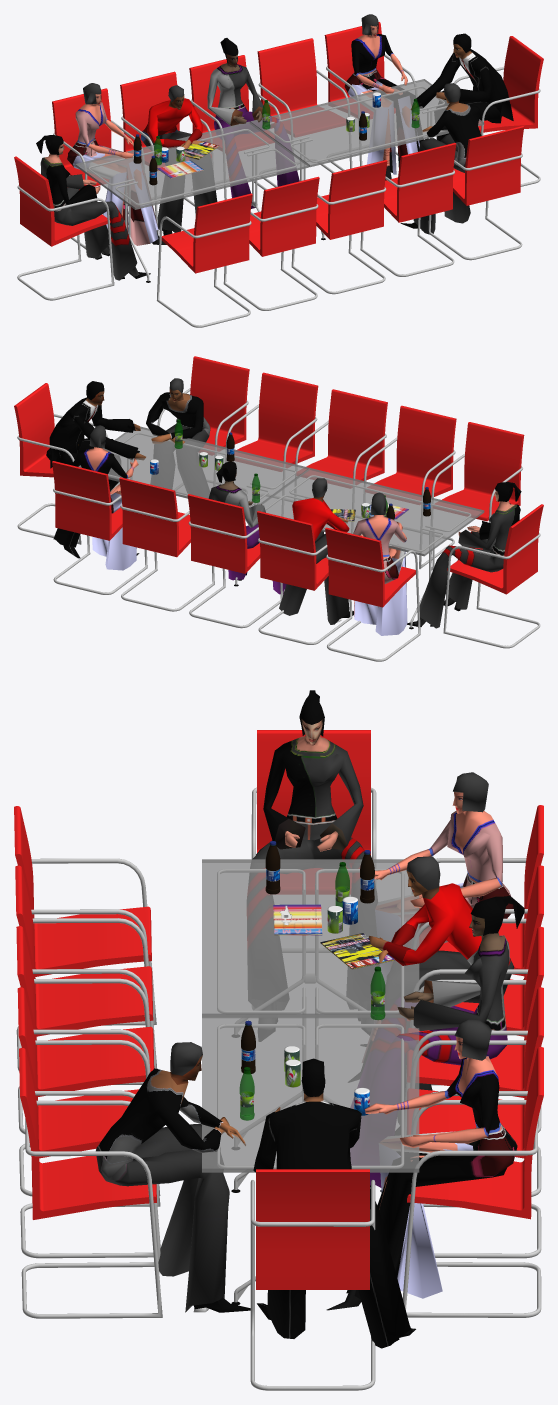
File: table.fbx
3 renders of one model, top to bottom at view 1: azimuth 30°, elevation 25°; view 2: azimuth 150°, elevation 25°; view 3: azimuth 270°, elevation 25°, orthographic. The views are drawn at different scales.
Visible parts, largest first — view 1: Box1335, Box1340, model23, model22, model19, model26, Line1070, model25, Line1077, Line1074, Line1076, Line1075 (+24 smaller); view 2: Box1340, Box1335, model22, Line1076, Line1074, Line1075, Line1077, model21, Line1068, model20, Line1070, Line1069 (+22 smaller); view 3: Box1335, Box1340, model21, model22, model23, Line1078, model26, model20, model25, model19, Line1075, Line1077 (+24 smaller).
Boxes of the visible parts, x1=… form: Box1335: x1=75, y1=121, x2=309, y2=209; Box1340: x1=250, y1=79, x2=484, y2=167; model23: x1=344, y1=14, x2=423, y2=180; model22: x1=36, y1=135, x2=150, y2=280; model19: x1=67, y1=83, x2=166, y2=245; model26: x1=207, y1=38, x2=299, y2=208; Line1070: x1=257, y1=38, x2=345, y2=136; model25: x1=140, y1=85, x2=217, y2=235; Line1077: x1=161, y1=193, x2=252, y2=273; Line1074: x1=384, y1=143, x2=456, y2=222; Line1076: x1=316, y1=160, x2=387, y2=239; Line1075: x1=249, y1=176, x2=319, y2=256; Box1340: x1=78, y1=426, x2=309, y2=507; Box1335: x1=260, y1=468, x2=484, y2=556; model22: x1=407, y1=482, x2=521, y2=628; Line1076: x1=297, y1=389, x2=387, y2=488; Line1074: x1=235, y1=372, x2=318, y2=471; Line1075: x1=365, y1=405, x2=456, y2=504; Line1077: x1=433, y1=422, x2=524, y2=521; model21: x1=146, y1=378, x2=210, y2=497; Line1068: x1=325, y1=527, x2=415, y2=607; model20: x1=46, y1=381, x2=145, y2=558; Line1070: x1=119, y1=477, x2=190, y2=557; Line1069: x1=257, y1=511, x2=328, y2=590; Box1335: x1=202, y1=859, x2=419, y2=1014; Box1340: x1=202, y1=1014, x2=419, y2=1172; model21: x1=96, y1=1042, x2=250, y2=1312; model22: x1=247, y1=690, x2=379, y2=1041; model23: x1=326, y1=1019, x2=517, y2=1310; Line1078: x1=256, y1=1169, x2=369, y2=1289; model26: x1=350, y1=896, x2=524, y2=1187; model20: x1=253, y1=1058, x2=415, y2=1348; model25: x1=368, y1=856, x2=514, y2=1134; model19: x1=348, y1=772, x2=513, y2=1082; Line1075: x1=15, y1=865, x2=153, y2=1036; Line1077: x1=14, y1=806, x2=151, y2=976.
Size of the model in its own units: 4292 by 1287 by 2176.
